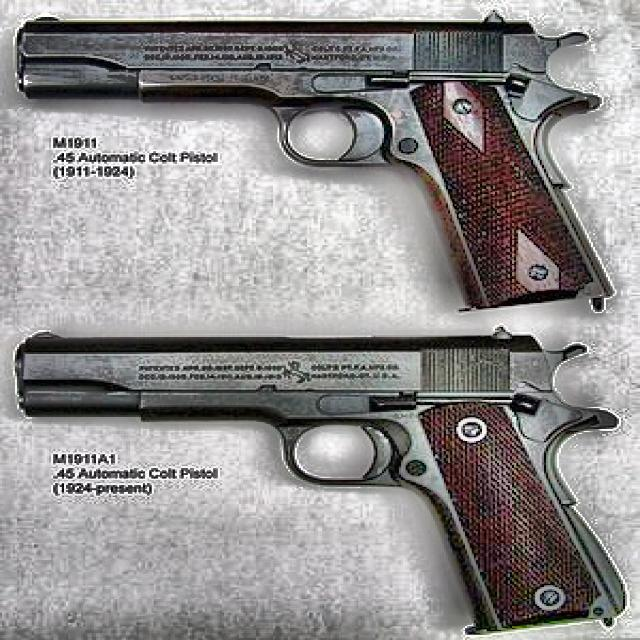Colt m1911: (13, 323, 627, 635), (13, 10, 614, 313)
